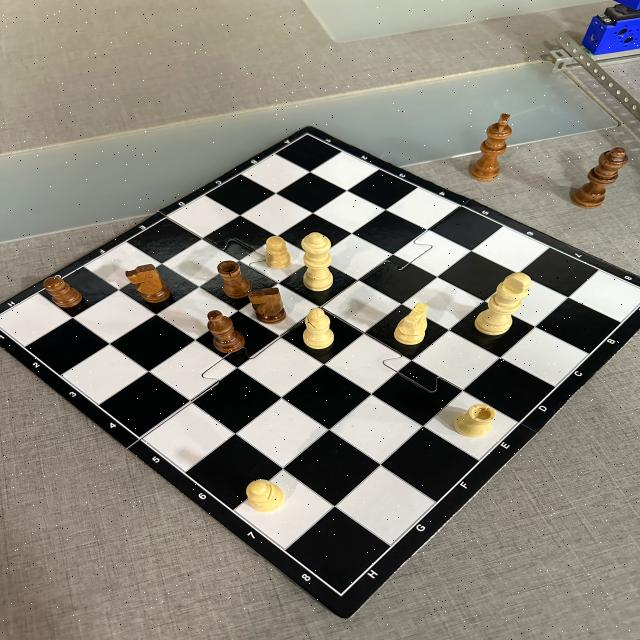Black-Bishop: (207, 310, 246, 354)
Black-King: (469, 113, 513, 182)
Black-Knight: (125, 264, 172, 304), (245, 288, 288, 324)
Black-Pawn: (44, 276, 84, 308)
Black-Queen: (572, 147, 630, 209)
Black-Rook: (218, 260, 252, 298)
White-Bishop: (303, 308, 335, 350), (246, 478, 285, 512)
White-King: (474, 272, 532, 336)
White-Knight: (393, 304, 429, 346)
White-Pawn: (265, 236, 292, 270)
White-Queen: (300, 232, 334, 292)
White-Rook: (454, 403, 496, 438)
